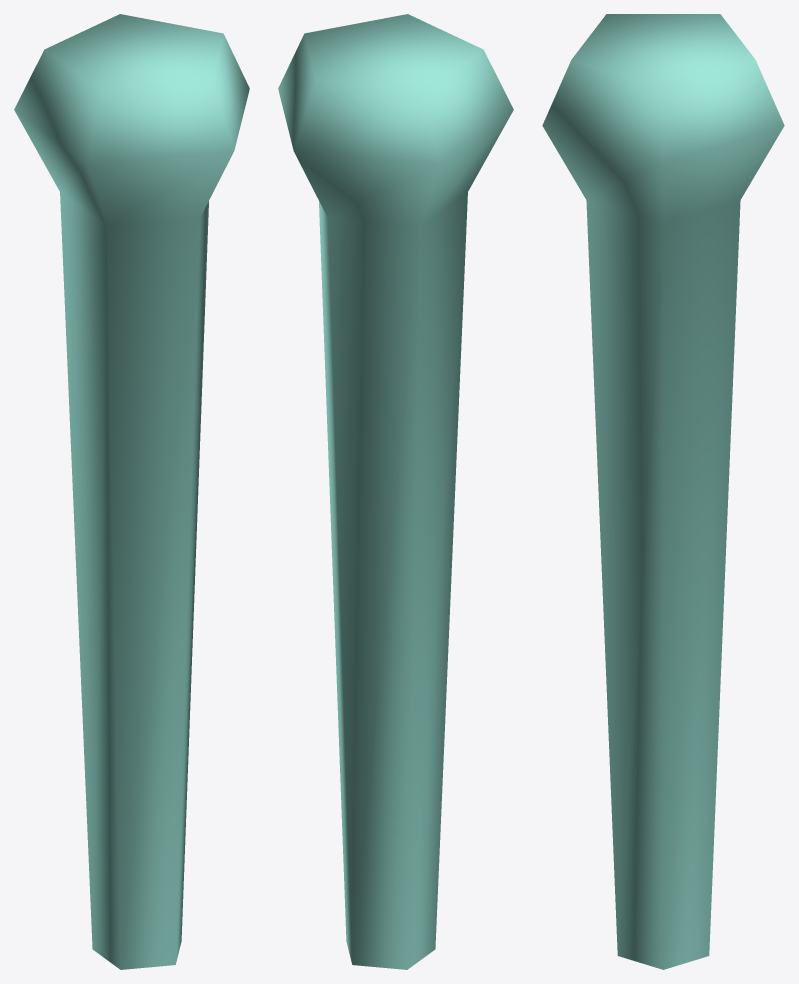
File: S1_Future_Building2_Top.FBX
3 renders of one model, left to right at view 1: azimuth 30°, elevation 25°; view 2: azimuth 150°, elevation 25°; view 3: azimuth 270°, elevation 25°, orthographic.
Parts seen in each view (by area): view 1: Building2_Top; view 2: Building2_Top; view 3: Building2_Top.
Part boxes in pixels (x1=…): Building2_Top: x1=14, y1=14, x2=249, y2=969; Building2_Top: x1=278, y1=14, x2=513, y2=969; Building2_Top: x1=542, y1=14, x2=784, y2=969.
Bounding box in the file's own units: 342 × 360 × 1479.
